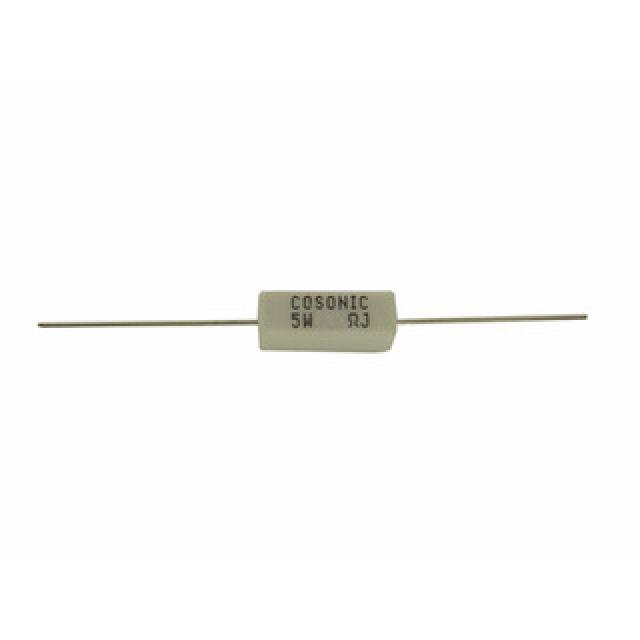Resistor: (257, 289, 399, 350)
